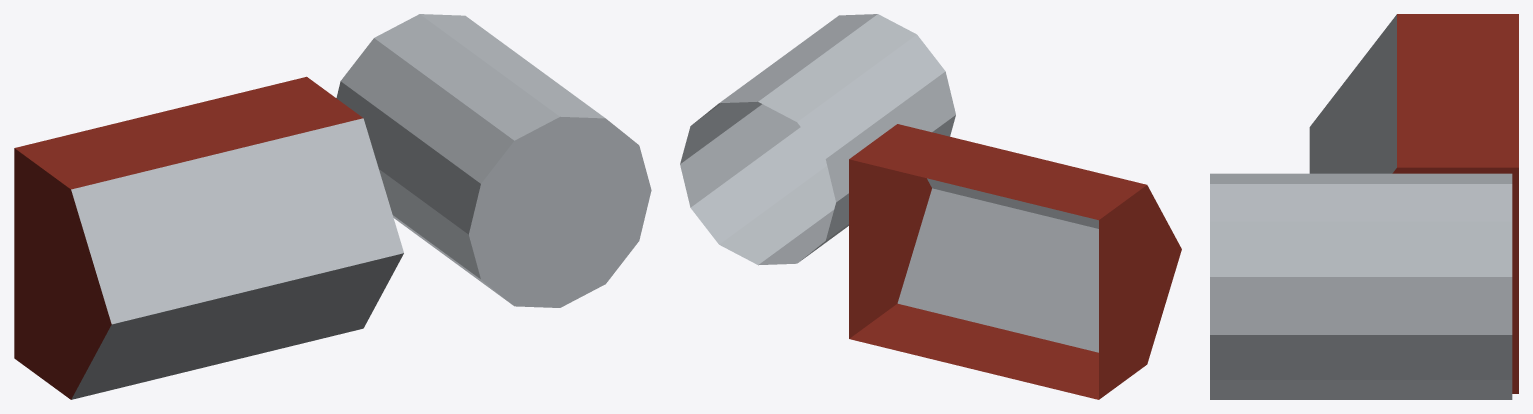
Rendered from island_bldg_15_08.obj.
3 views of the same model, side by side, from view 1: azimuth 30°, elevation 25°; view 2: azimuth 150°, elevation 25°; view 3: azimuth 270°, elevation 25° (orthographic). The views are drawn at different scales.
Parts seen in each view (by area): view 1: island_bldg_15_08; view 2: island_bldg_15_08; view 3: island_bldg_15_08.
Part boxes in pixels (x1,y1,x2,y2): island_bldg_15_08: (14, 14, 651, 399); island_bldg_15_08: (680, 14, 1181, 399); island_bldg_15_08: (1210, 14, 1518, 399).
Bounding box in the file's own units: 54 × 26 × 27.21.
